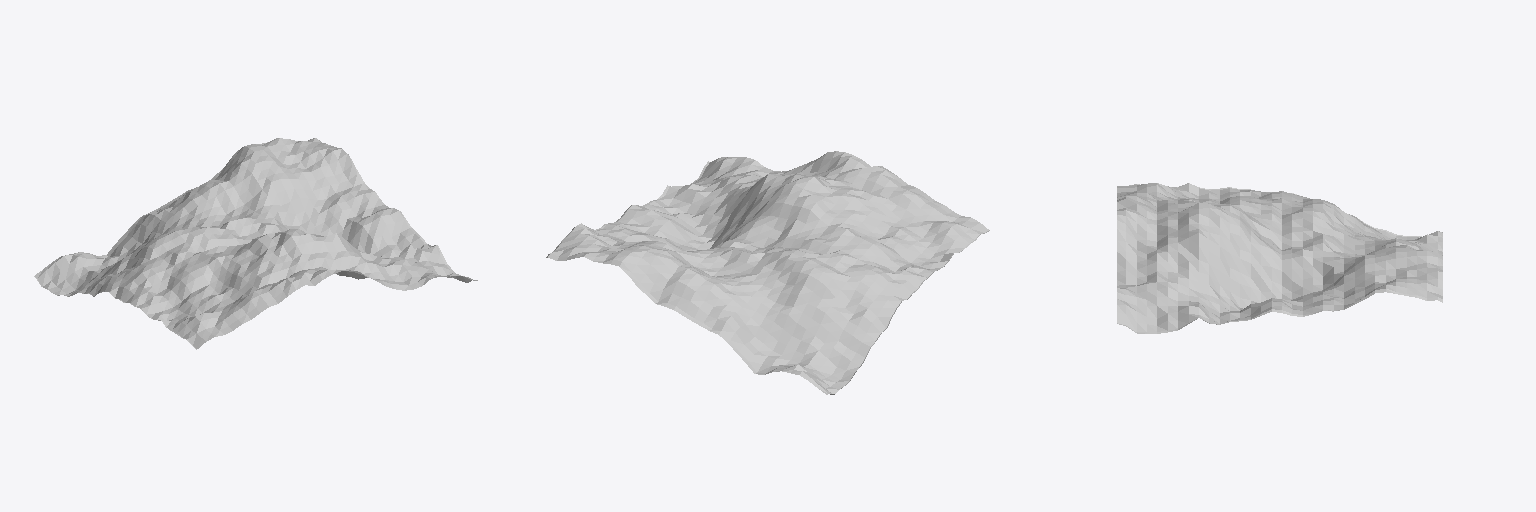
File: heightmap.062.obj
The picture shows the model from 3 angles: view 1: azimuth 30°, elevation 25°; view 2: azimuth 150°, elevation 25°; view 3: azimuth 270°, elevation 25°; orthographic projection.
Parts seen in each view (by area): view 1: heightmap.062_Plane.062; view 2: heightmap.062_Plane.062; view 3: heightmap.062_Plane.062.
Boxes of the visible parts, x1=… form: heightmap.062_Plane.062: x1=34, y1=138, x2=477, y2=349; heightmap.062_Plane.062: x1=546, y1=151, x2=989, y2=394; heightmap.062_Plane.062: x1=1117, y1=183, x2=1442, y2=333.
Bounding box in the file's own units: 32 × 11.06 × 32.